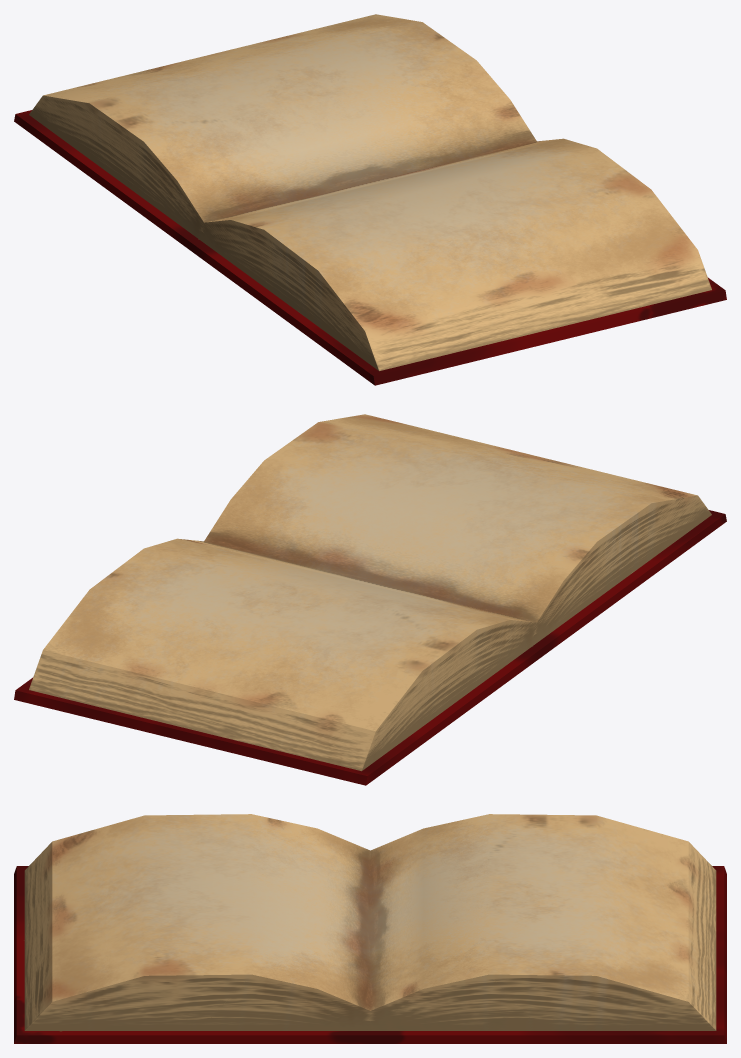
File: Book.fbx
The picture shows the model from 3 angles, top to bottom: view 1: azimuth 30°, elevation 25°; view 2: azimuth 150°, elevation 25°; view 3: azimuth 270°, elevation 25°; orthographic projection.
Parts seen in each view (by area): view 1: Book; view 2: Book; view 3: Book.
Part boxes in pixels (bbox=[...]): Book: bbox=[14, 14, 726, 385]; Book: bbox=[14, 414, 726, 785]; Book: bbox=[14, 814, 726, 1043].
Size of the model in its own units: 209 by 37.13 by 371.
Materials: 1 (1 with a texture image).
